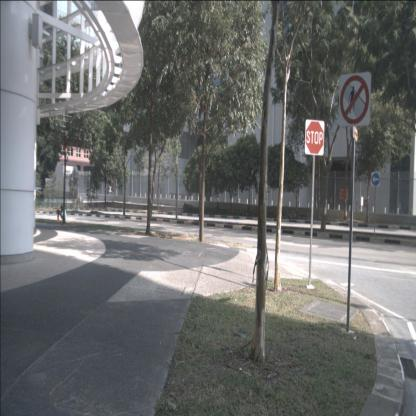human-pedestrian-adult: (59, 204, 67, 225)
